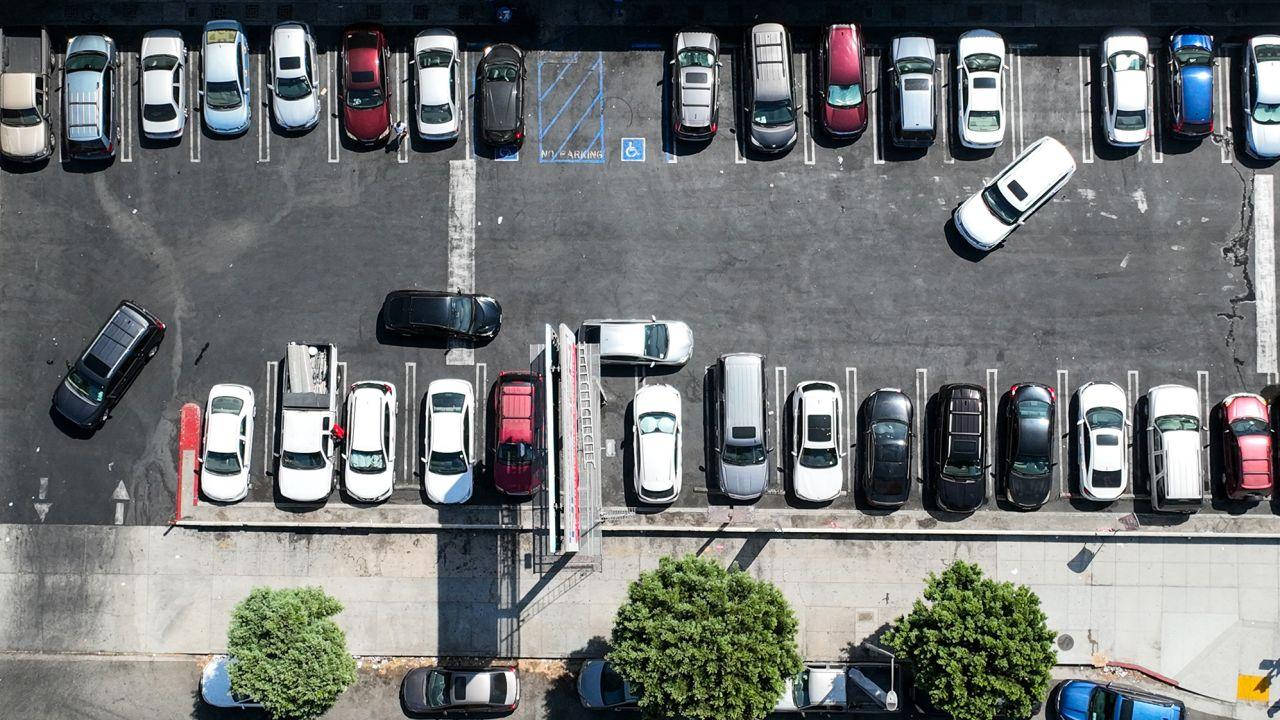occupied: (263, 361, 345, 508), (634, 365, 712, 513), (992, 368, 1065, 516), (483, 363, 554, 511), (712, 365, 782, 514), (1064, 369, 1134, 516), (854, 366, 923, 515), (1135, 370, 1204, 518), (411, 362, 480, 510), (341, 360, 409, 509), (923, 367, 991, 515), (783, 366, 851, 513), (58, 21, 127, 164), (334, 22, 403, 165), (1206, 371, 1273, 518), (196, 21, 264, 163), (128, 21, 195, 163), (266, 22, 333, 164), (1155, 42, 1227, 165), (1086, 42, 1157, 165), (808, 42, 878, 166), (739, 42, 809, 165), (878, 43, 948, 165), (947, 43, 1017, 164), (672, 43, 739, 165), (405, 56, 468, 160)
vacant: (1019, 43, 1088, 165)
